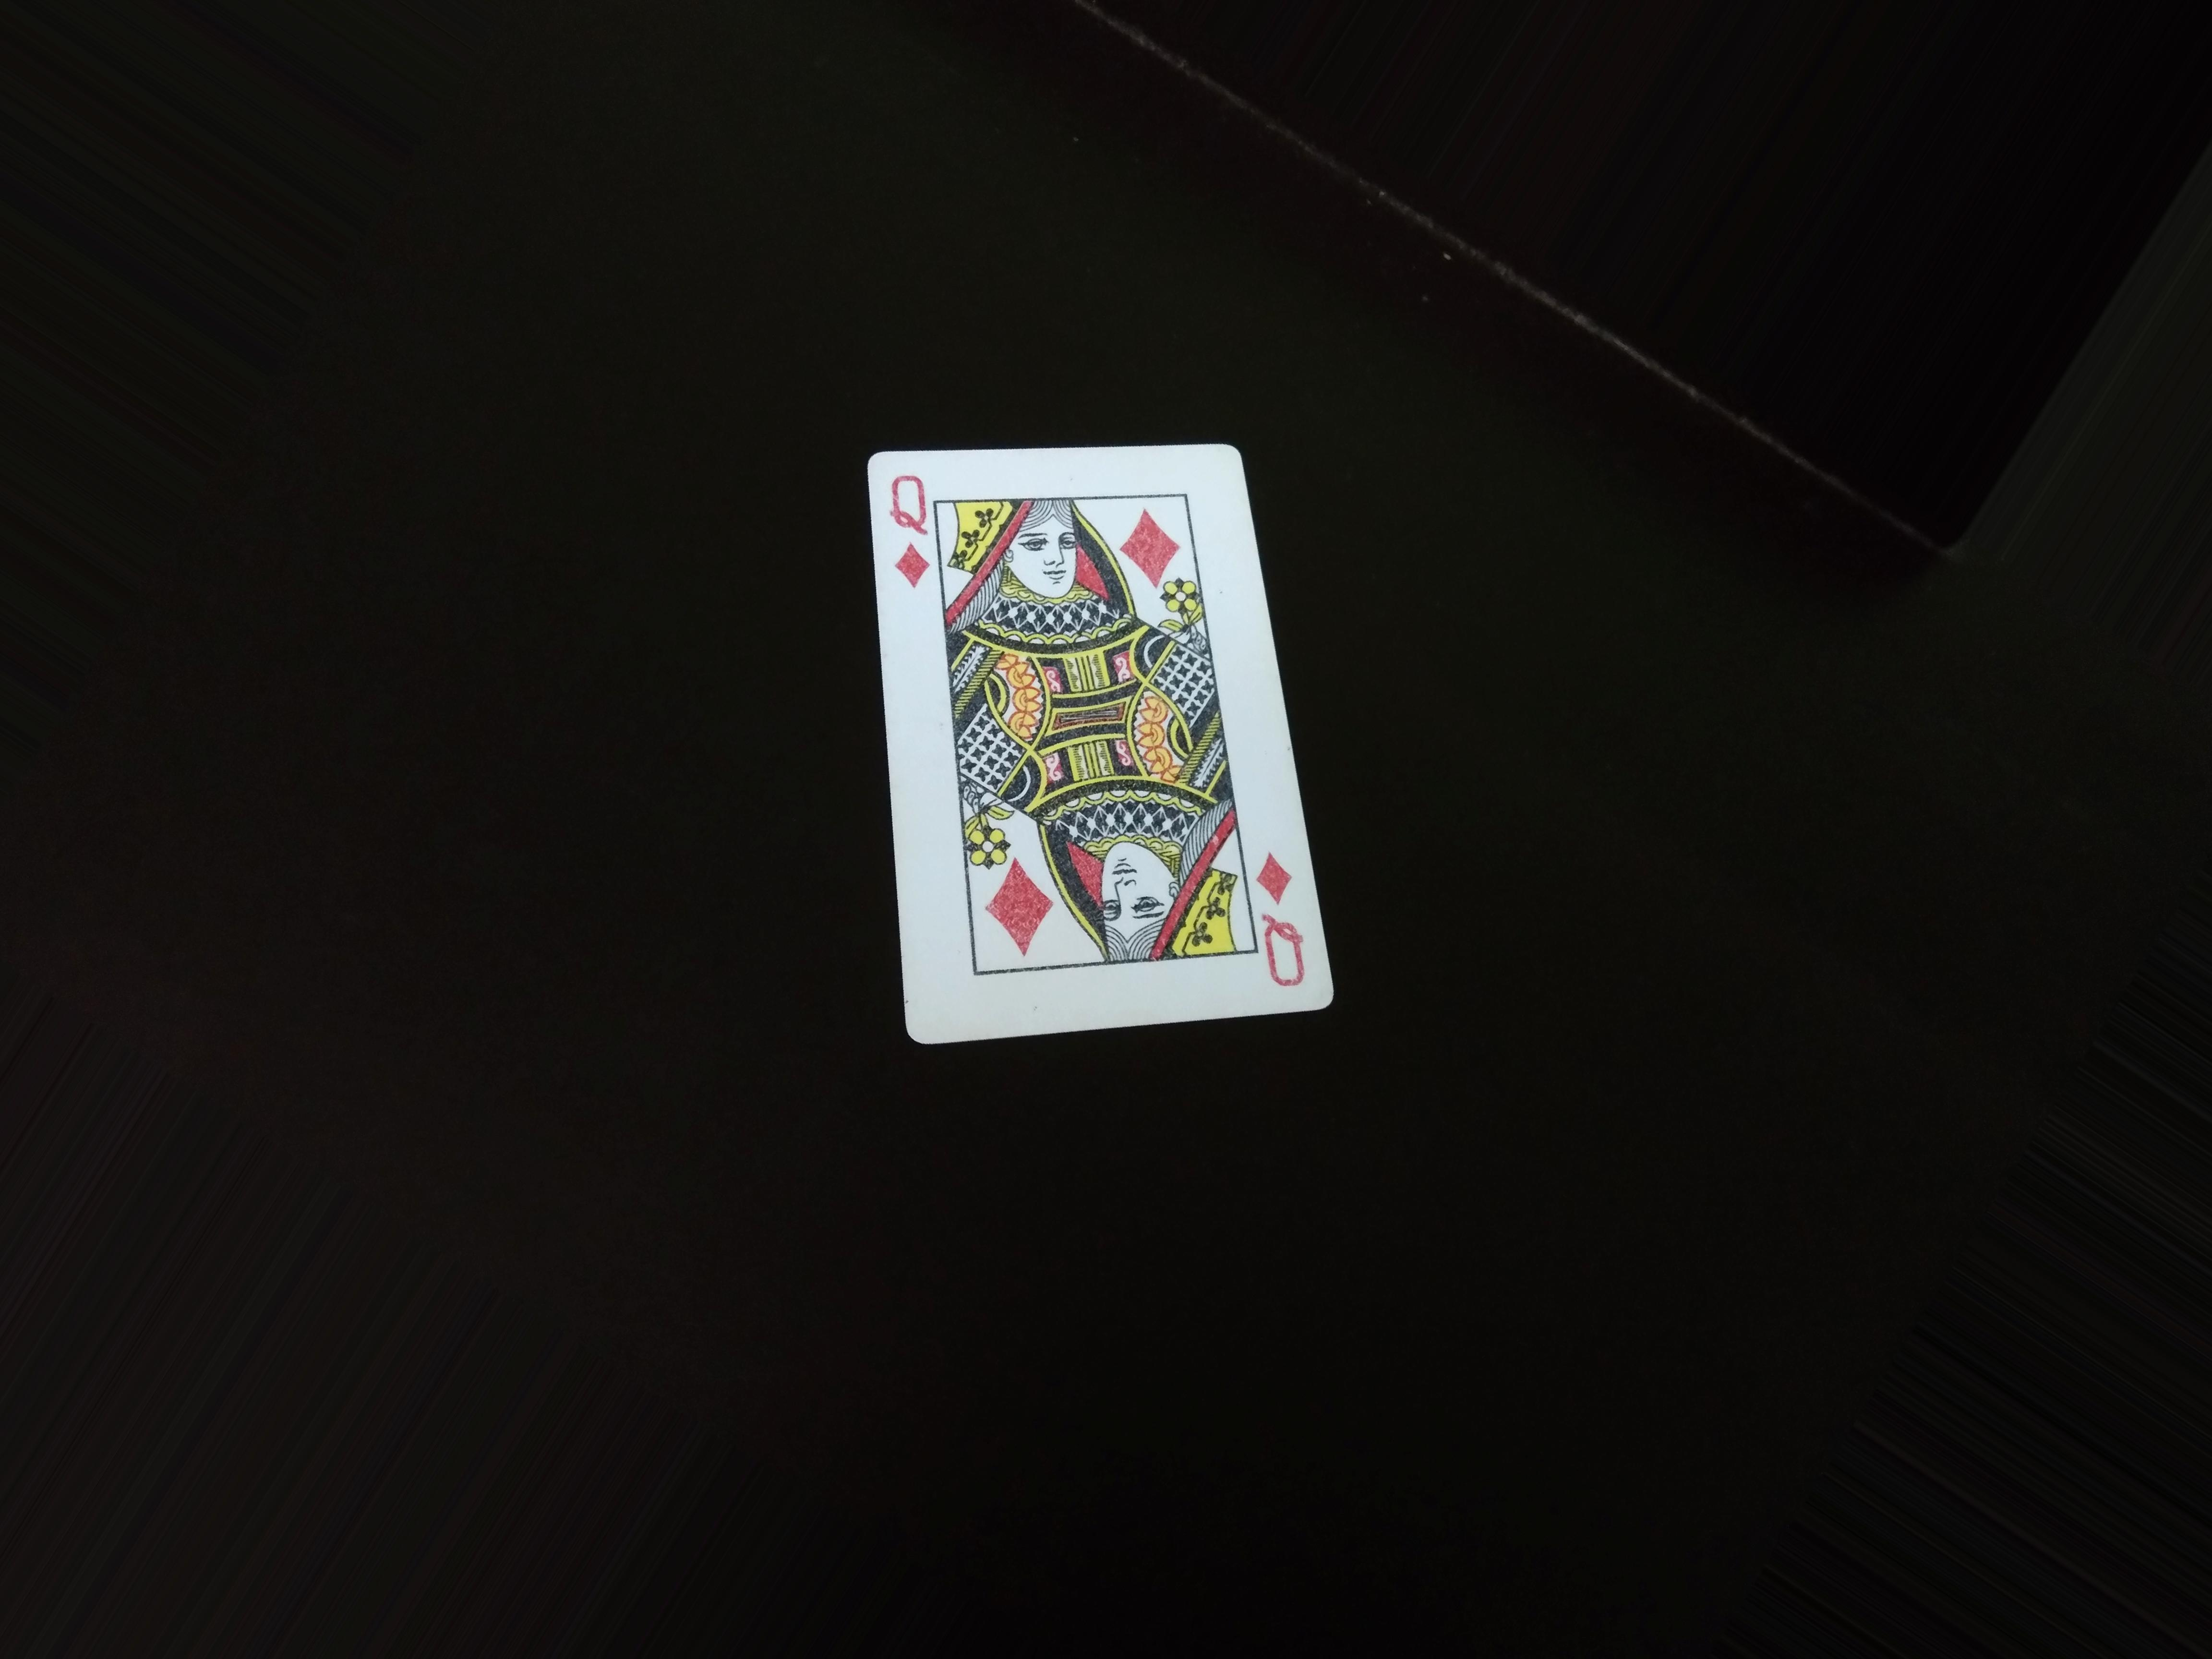QD: (880, 460, 934, 610)
